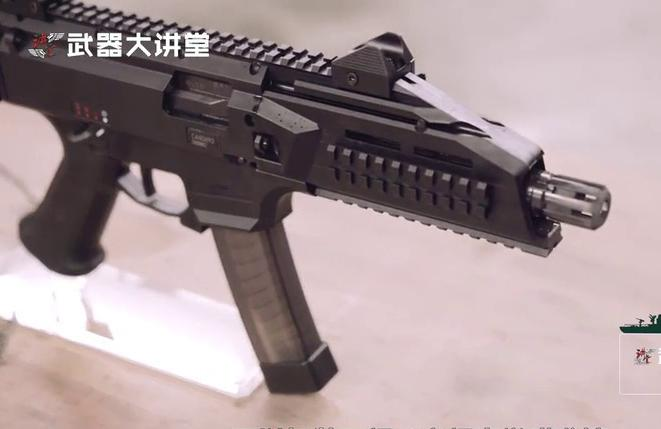gun: (1, 0, 661, 429)
